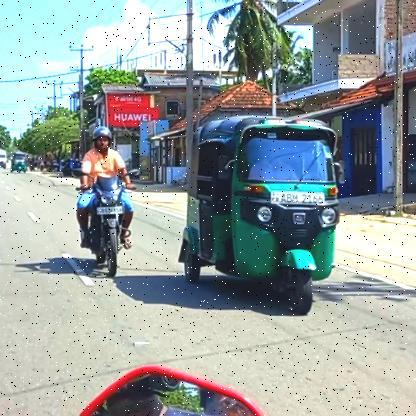motorcycle: (74, 176, 140, 283)
